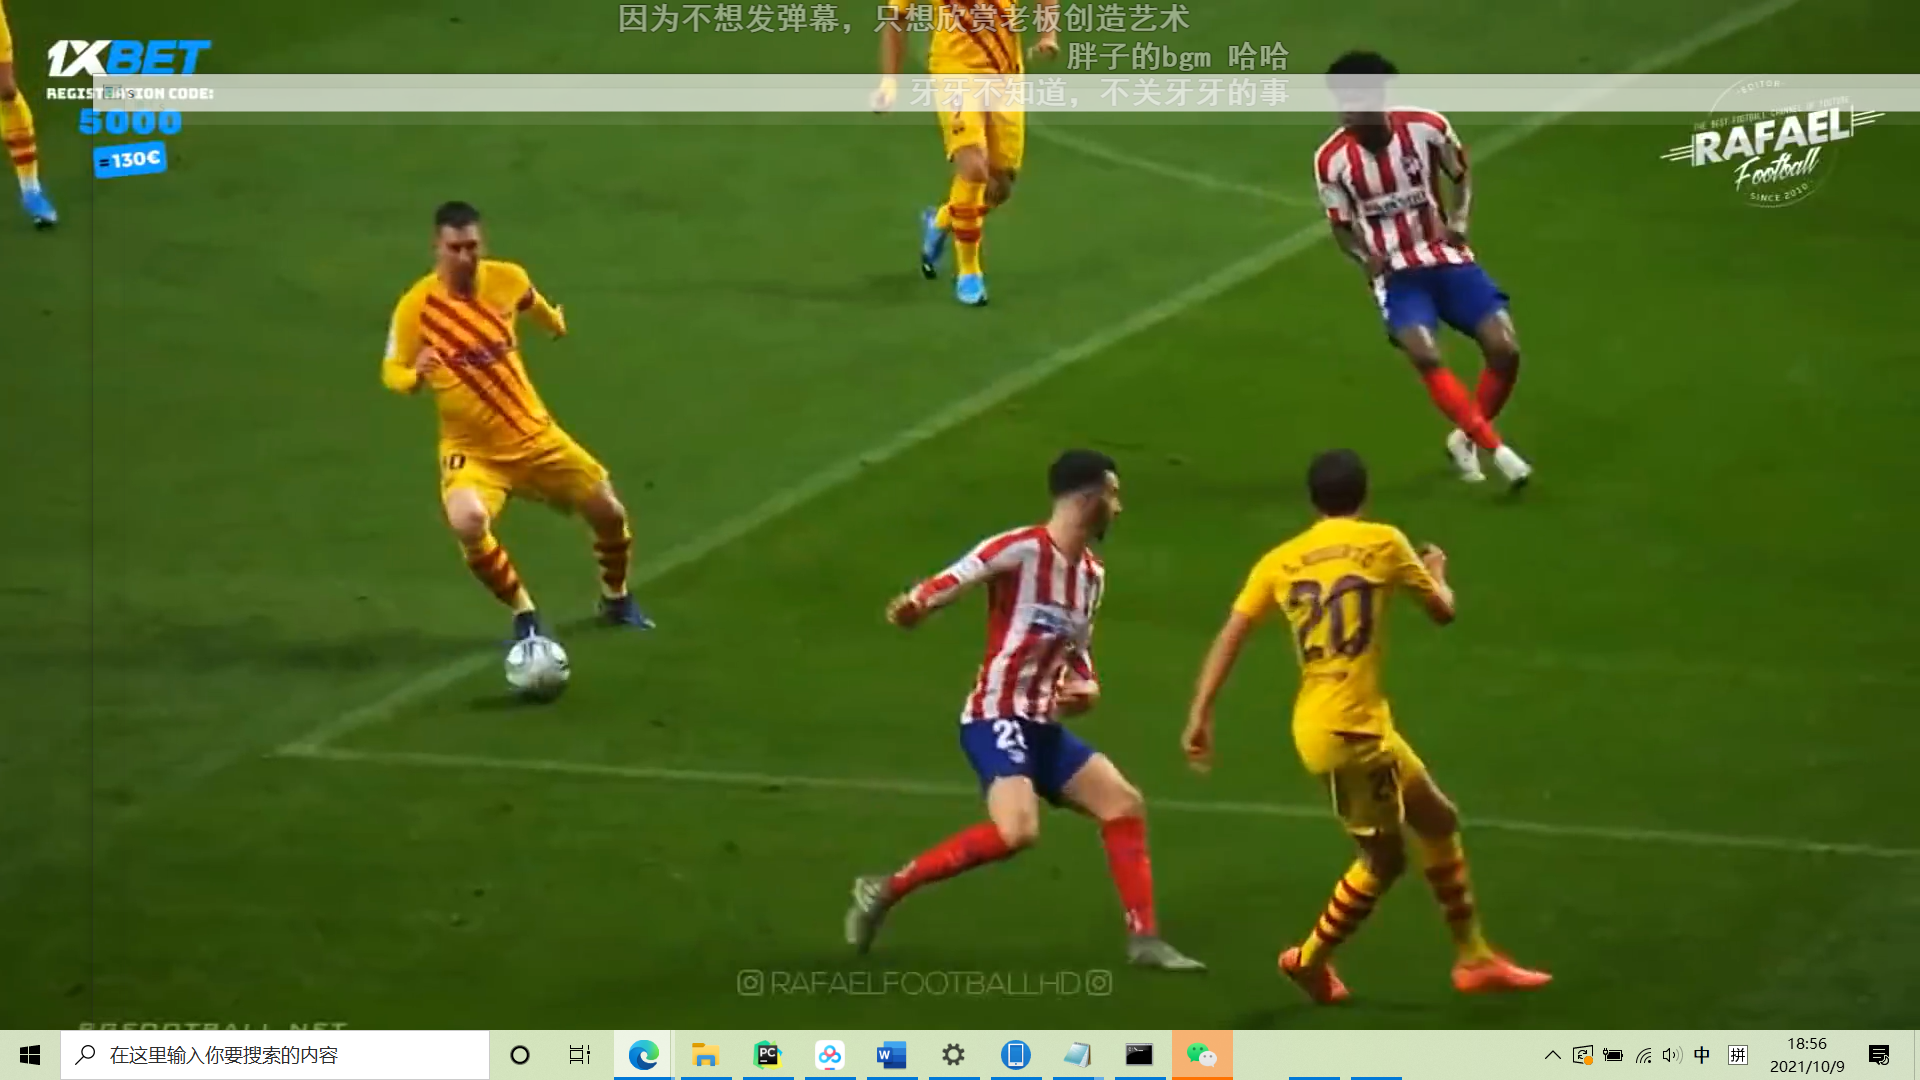ft: (498, 632, 579, 711)
